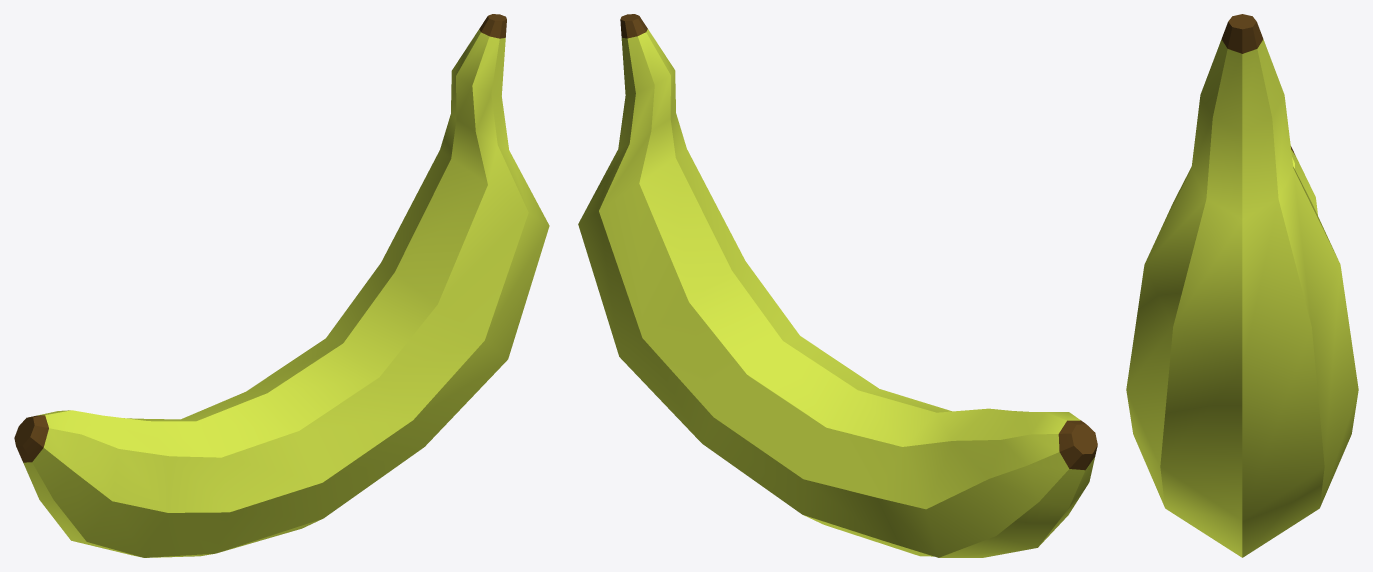
File: Banana.fbx
The picture shows the model from 3 angles, left to right: view 1: azimuth 30°, elevation 25°; view 2: azimuth 150°, elevation 25°; view 3: azimuth 270°, elevation 25°; orthographic projection. The views are drawn at different scales.
Parts seen in each view (by area): view 1: pCylinder1; view 2: pCylinder1; view 3: pCylinder1.
Part boxes in pixels (left/top/right/bottom): pCylinder1: left=14, top=14, right=549, bottom=557; pCylinder1: left=578, top=14, right=1097, bottom=557; pCylinder1: left=1126, top=14, right=1358, bottom=557.
Size of the model in its own units: 14.56 by 12.7 by 3.94.
